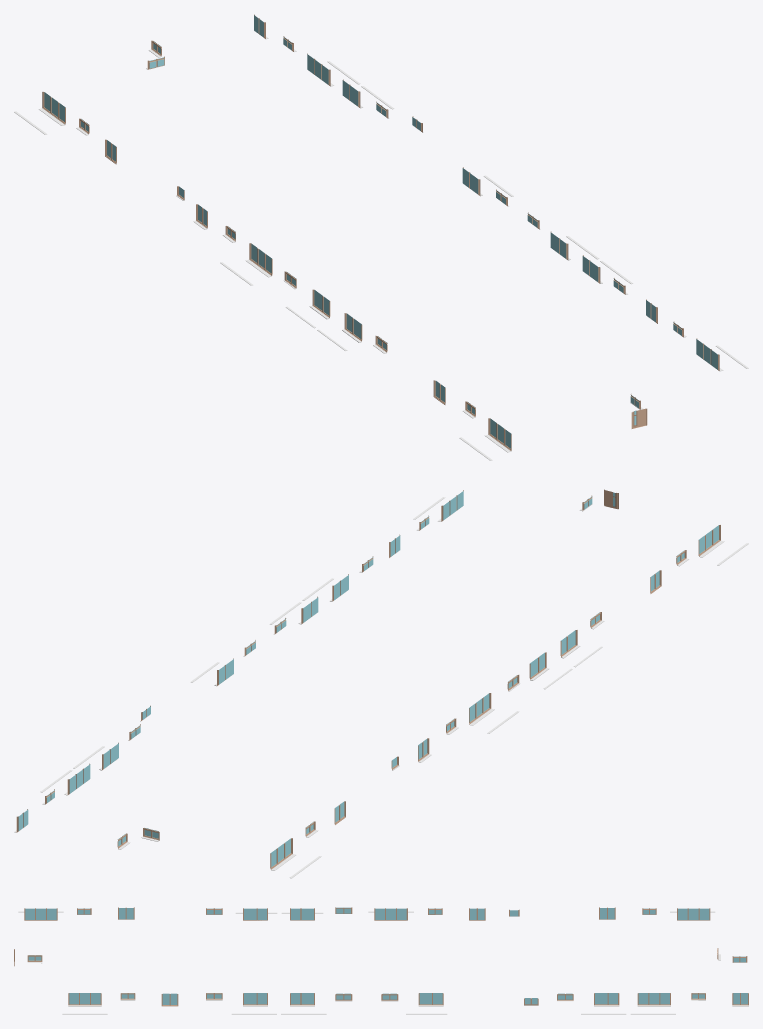
The model's file is window_0.fbx.
The picture shows the model from 3 angles, top to bottom: view 1: azimuth 30°, elevation 25°; view 2: azimuth 150°, elevation 25°; view 3: azimuth 270°, elevation 25°; orthographic projection. The views are drawn at different scales.
Visible parts, largest first — view 1: window_0; view 2: window_0; view 3: window_0.
Boxes of the visible parts, <box> form: window_0: <box>14,14,748,460</box>; window_0: <box>14,489,748,878</box>; window_0: <box>14,907,748,1014</box>.
Bounding box in the file's own units: 2334 × 130 × 7034.
